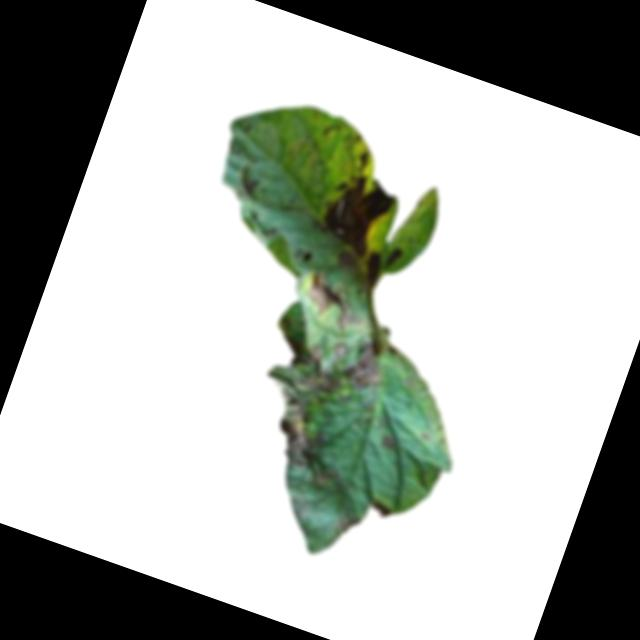Early_blight: (229, 308, 393, 496), (307, 162, 401, 264), (298, 267, 374, 337), (357, 237, 405, 294), (351, 146, 374, 176), (366, 499, 392, 520), (376, 434, 396, 451)
